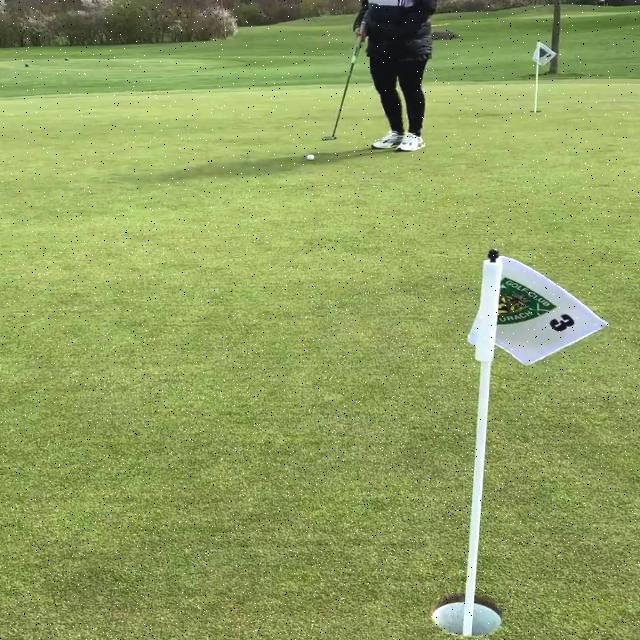golf ball: (307, 154, 315, 160)
golf club-handle: (322, 21, 366, 141)
golf club-head: (323, 136, 337, 141)
